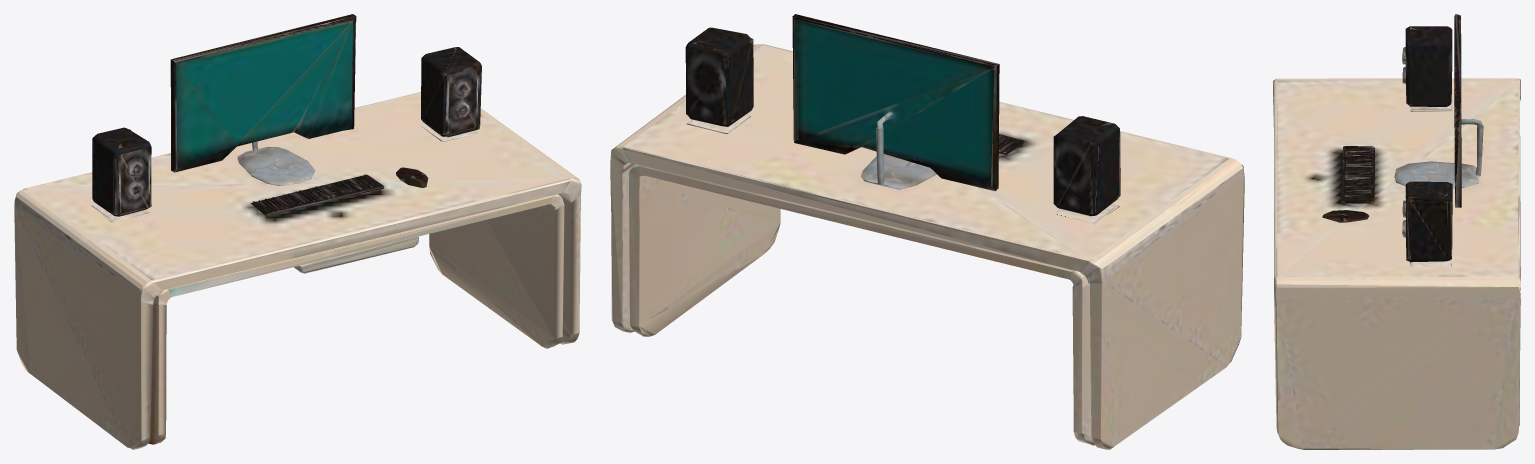
File: desk.lod1.glb
The picture shows the model from 3 angles, left to right: view 1: azimuth 30°, elevation 25°; view 2: azimuth 150°, elevation 25°; view 3: azimuth 270°, elevation 25°; orthographic projection. The views are drawn at different scales.
Size of the model in its own units: 2 by 1.3 by 1.01.
Materials: 1 (1 with a texture image).
